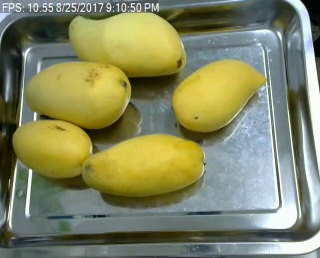Mango: (64, 8, 188, 78), (80, 133, 206, 197), (23, 60, 131, 130), (172, 57, 268, 133), (11, 119, 91, 181)
